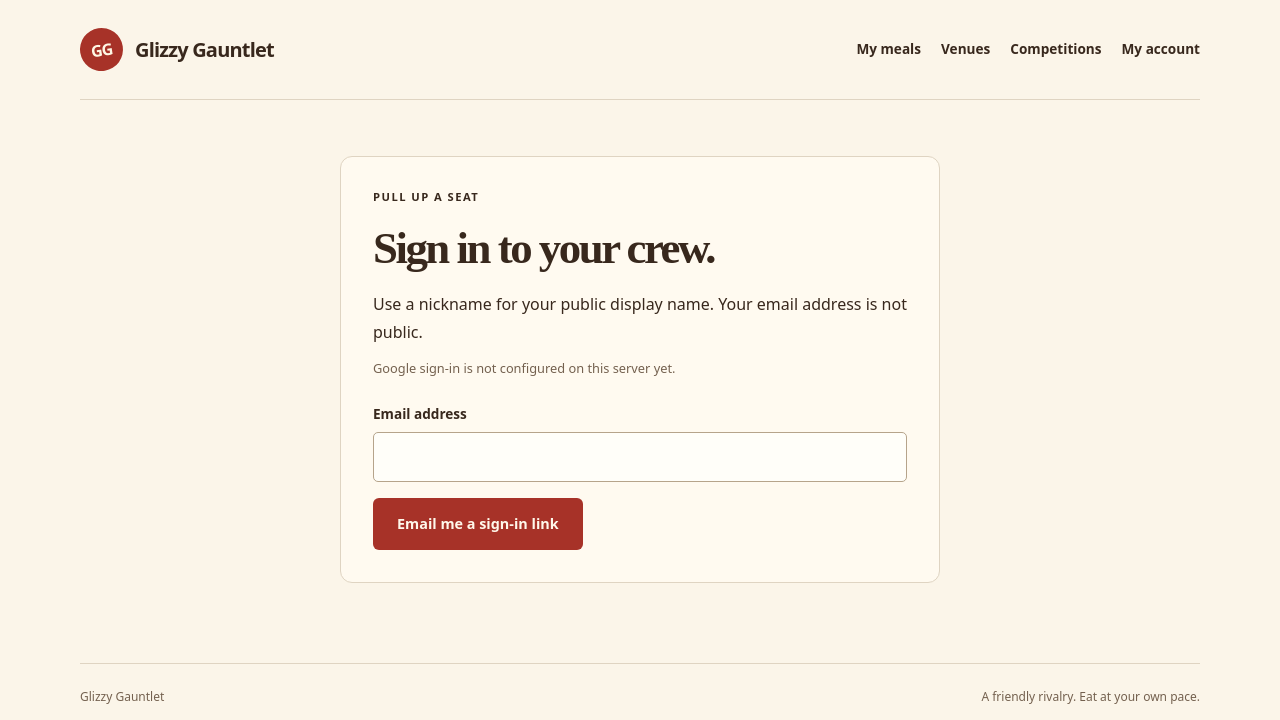
Test: account screens › sends an email request with the session CSRF token and reports a generic outcome
Type "diner@example.test" into the field labelled "Email address" at (640, 457), box [373,432,907,482]
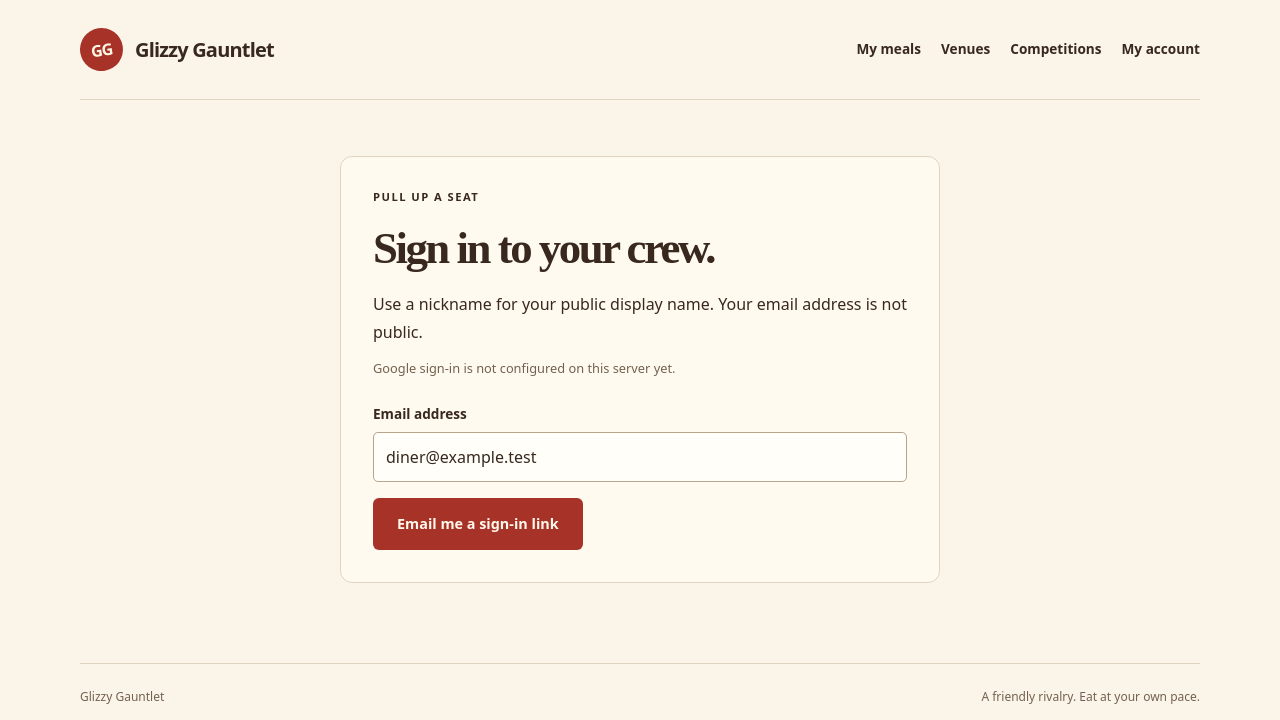
Click the button "Email me a sign-in link" at (478, 524), box [373,498,583,550]
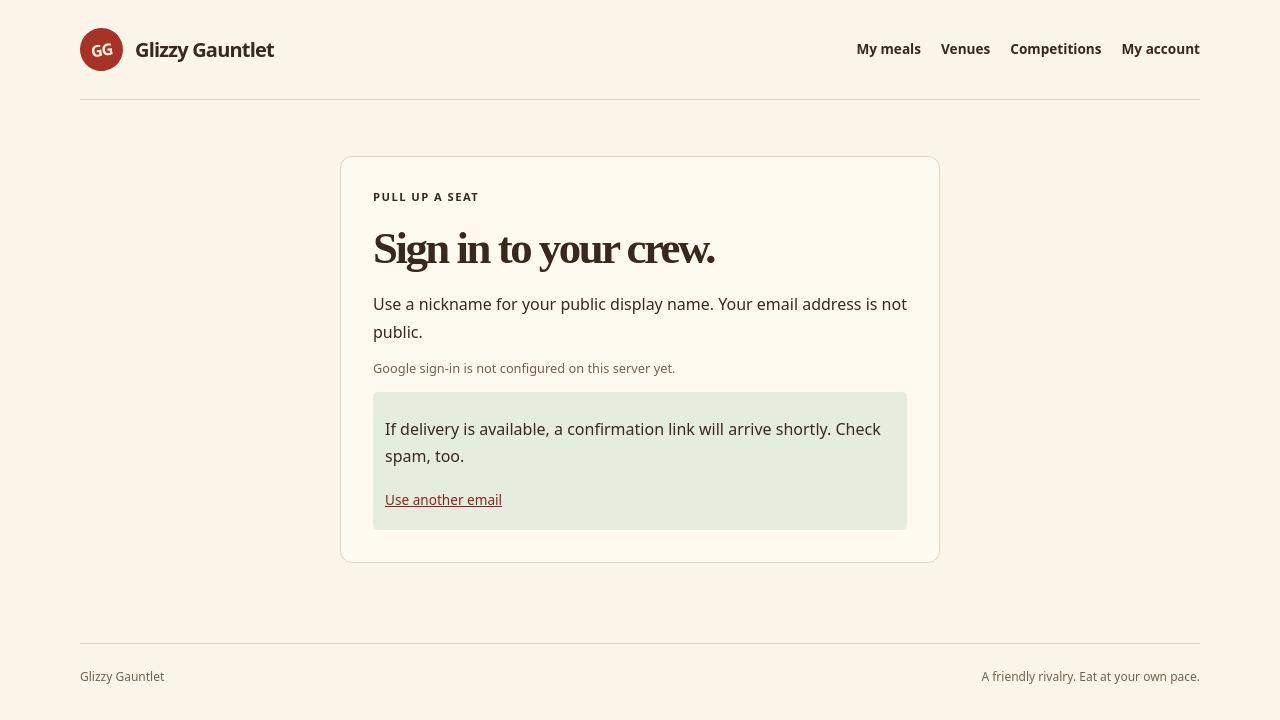
Now the message shows "If delivery is available", box [385,418,881,467]
